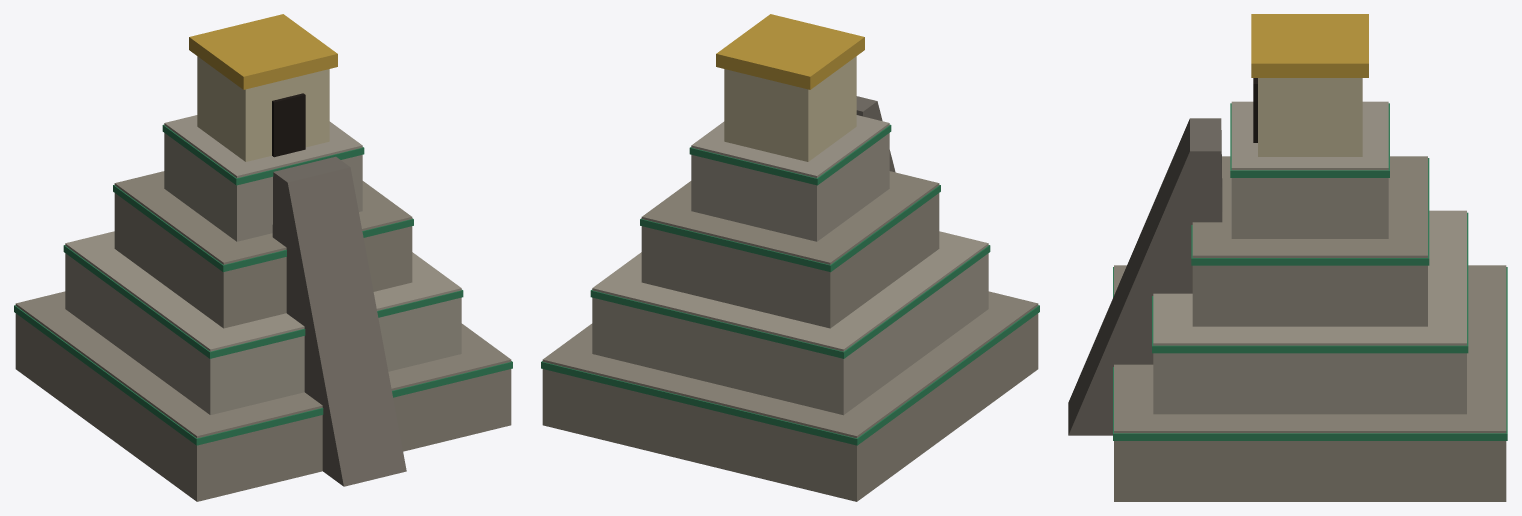
File: frog_landmark.glb
3 renders of one model, left to right at view 1: azimuth 30°, elevation 25°; view 2: azimuth 150°, elevation 25°; view 3: azimuth 270°, elevation 25°, orthographic. The views are drawn at different scales.
Visible parts, largest first — view 1: frog_landmark; view 2: frog_landmark; view 3: frog_landmark.
Part boxes in pixels (x1=…): frog_landmark: x1=14, y1=14, x2=512, y2=501; frog_landmark: x1=541, y1=14, x2=1039, y2=501; frog_landmark: x1=1068, y1=14, x2=1507, y2=501.
Size of the model in its own units: 3.02 by 3.21 by 3.36.
